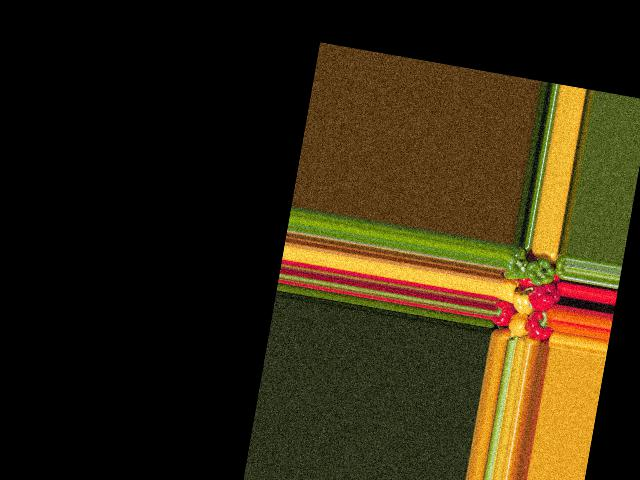bell_pepper: (549, 251, 569, 279)
